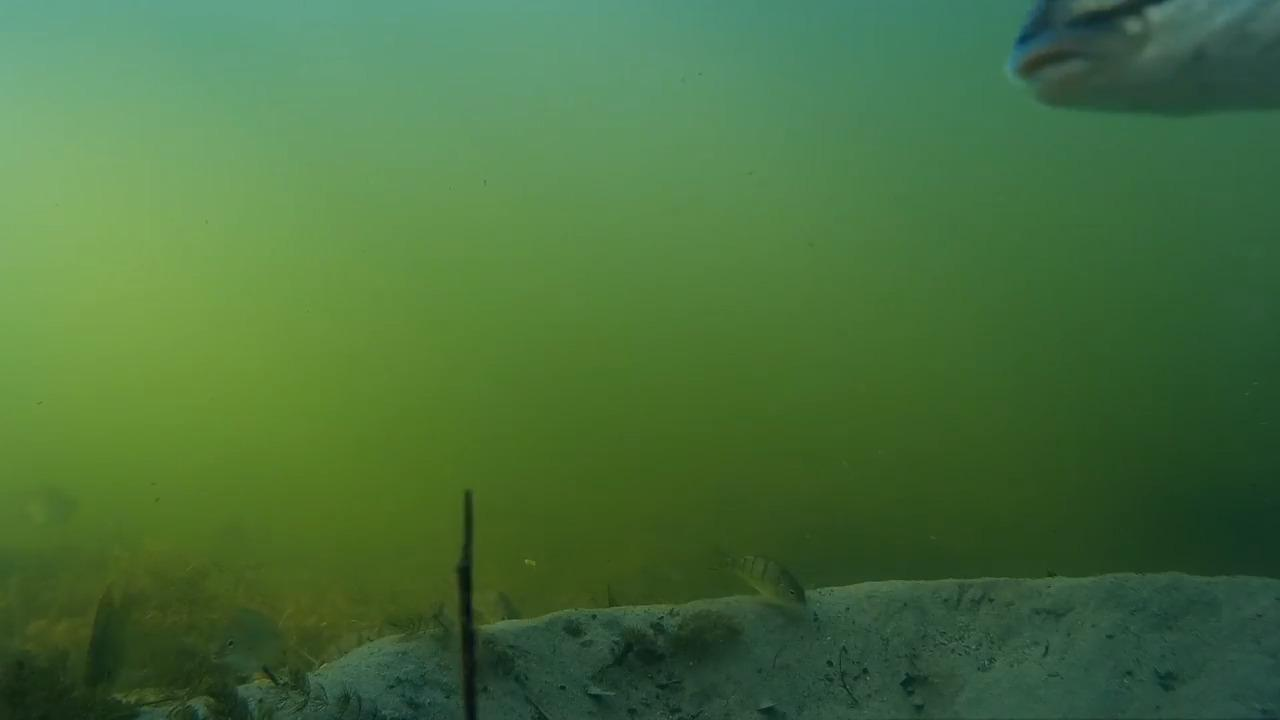Tilapia: (1008, 0, 1277, 125), (724, 534, 811, 636), (207, 600, 311, 682)
